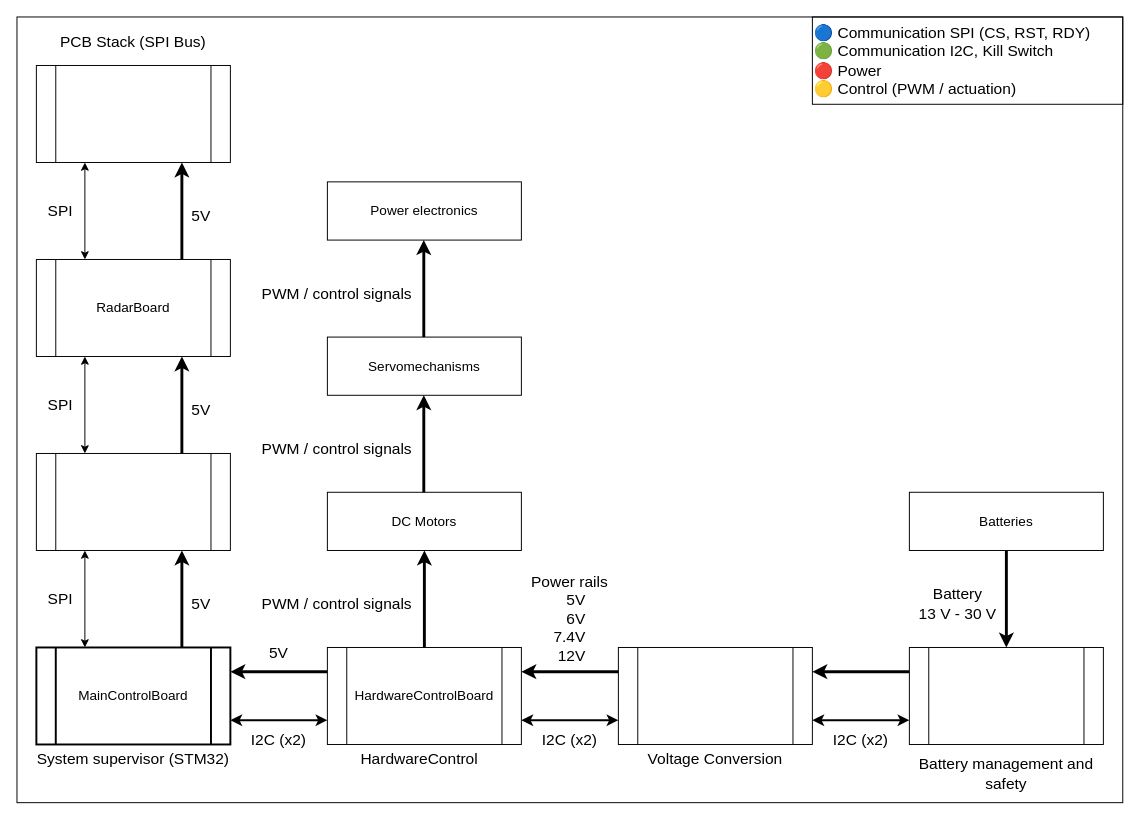
This 1140x820 diagram has some shape labels left out. Each missing label, with the centre of its shape:
"AVProcessingBoard" belongs at (132,501).
"BatteryManagerBoard" belongs at (1005,695).
"FireControlBoard" belongs at (132,113).
"PowerConversionBoard" belongs at (714,695).
